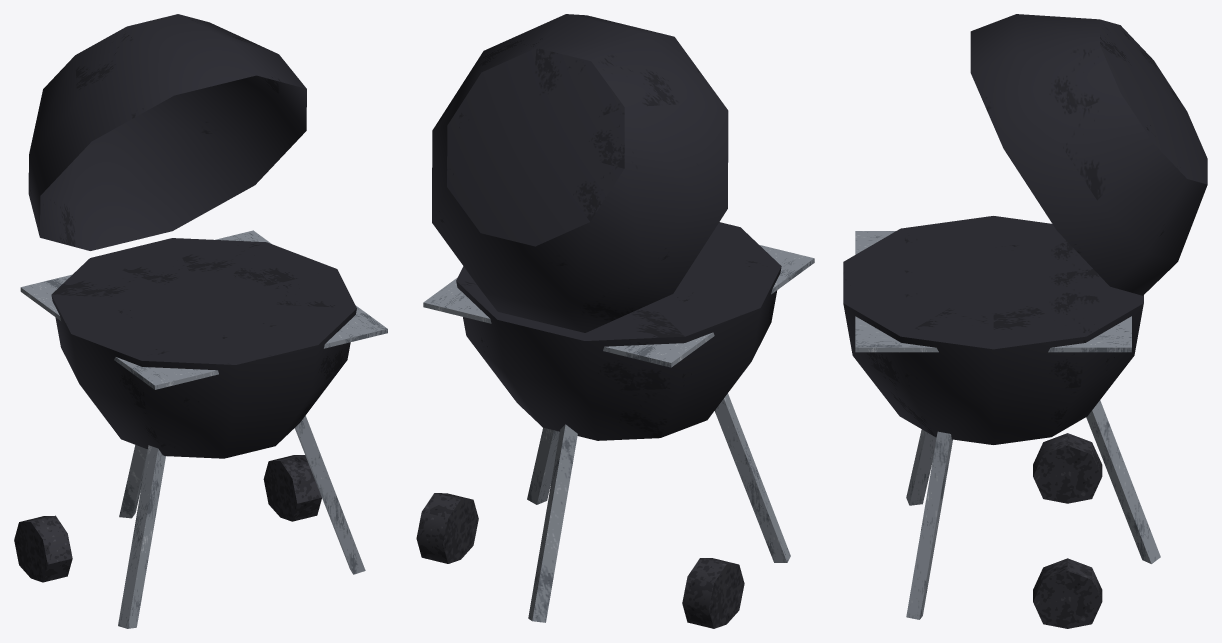
The model's file is bbq_grill.glb.
3 renders of one model, left to right at view 1: azimuth 30°, elevation 25°; view 2: azimuth 150°, elevation 25°; view 3: azimuth 270°, elevation 25°, orthographic. The views are drawn at different scales.
Visible parts, largest first — view 1: Prop; view 2: Prop; view 3: Prop.
Part boxes in pixels (x1,y1,x2,y2): Prop: (14, 14, 387, 628); Prop: (416, 14, 814, 628); Prop: (843, 14, 1207, 628).
Size of the model in its own units: 0.66 by 1.18 by 0.738.
Materials: 3 (3 with a texture image).
